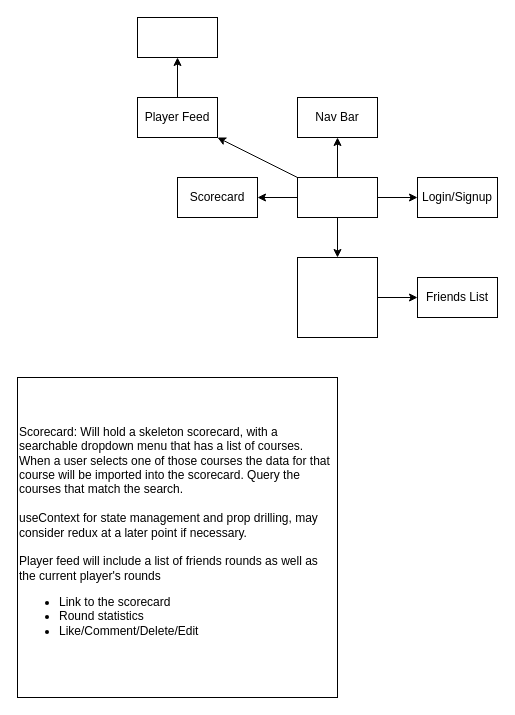
The diagram is 515 pixels wide and 715 high, and some of its shapes have lost their labels. The centre of each missing label's shape, as x and y in pixels:
App: the point at 337,197
Player Profile Read, Update, Delete: the point at 337,297
Rounds: the point at 177,37
